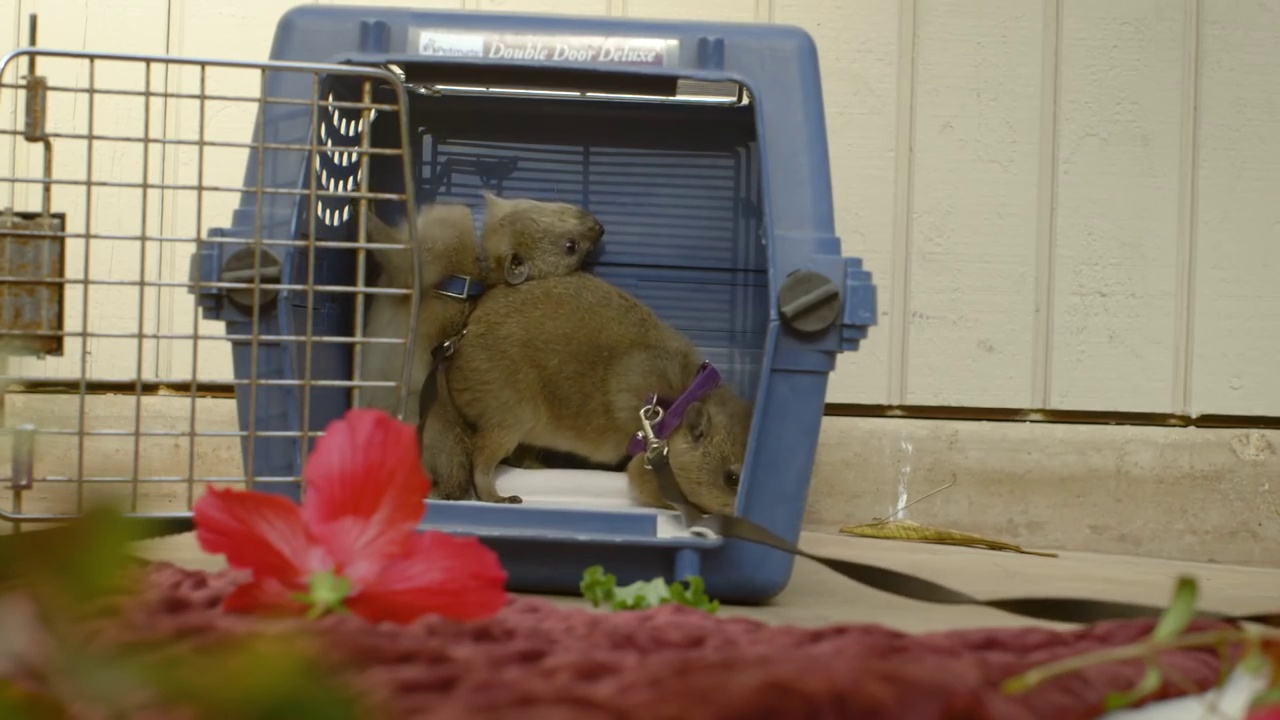Rock Hyrex: (349, 177, 616, 515), (422, 267, 750, 537)
